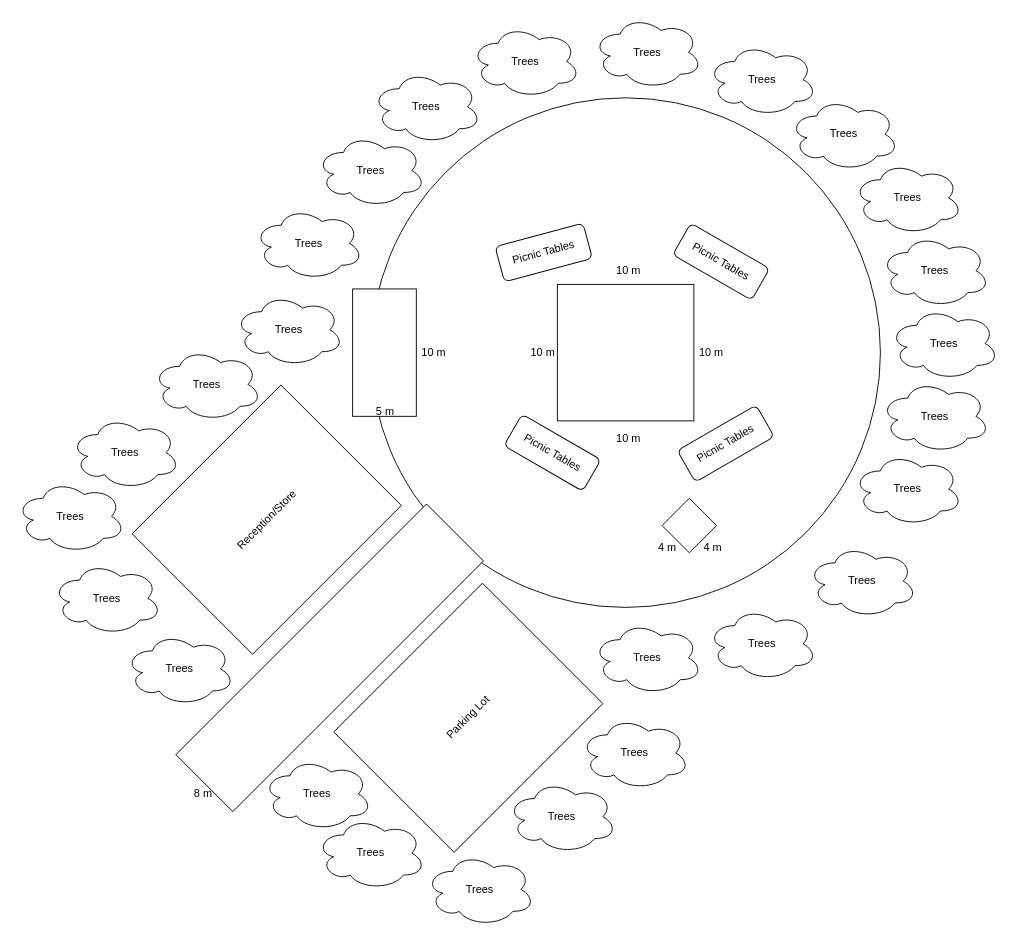
The diagram is 1015 pixels wide and 942 high, and some of its shapes have lost their labels. The shapes that lost their labels are listed below. From the top down, each one's box as (x1, y1, x2, y2) in pixels, then its label:
(352, 288, 416, 416): Toilet
(556, 283, 694, 421): Assembly Point
(661, 497, 717, 553): Tent
(175, 503, 484, 812): Road
